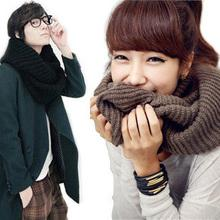NONE: (24, 15, 52, 46)
WRONG: (106, 46, 182, 122)
